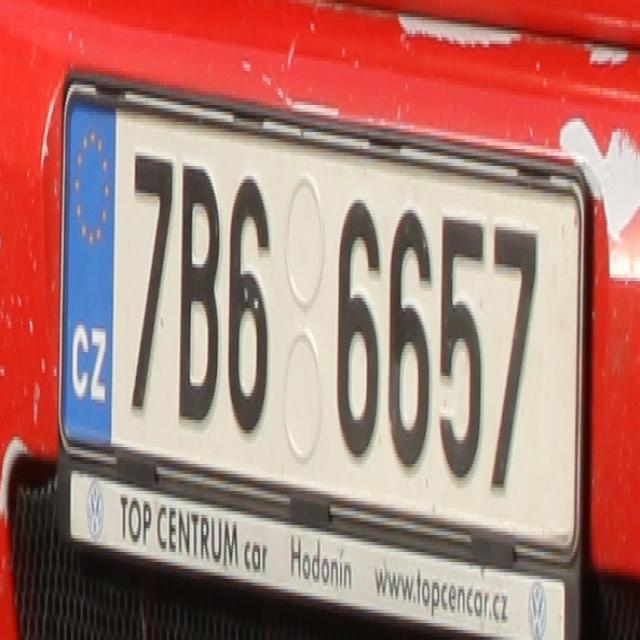5: (437, 220, 481, 478)
6: (224, 176, 270, 440), (334, 193, 380, 457), (386, 213, 431, 471)
7: (486, 220, 540, 505), (121, 138, 170, 424)
B: (174, 159, 218, 423)
